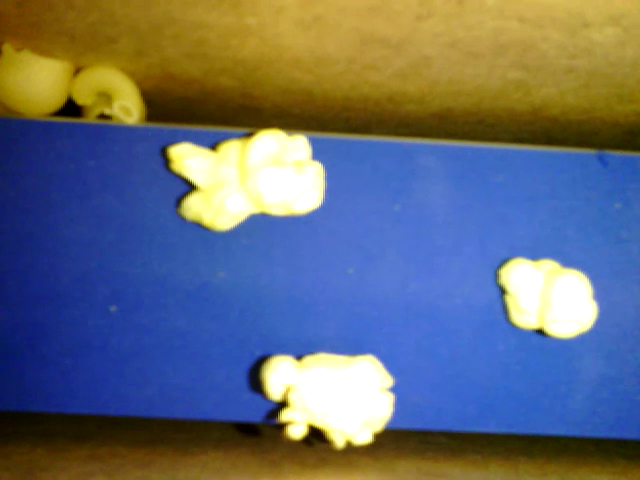elbow: (72, 63, 141, 121)
shell: (1, 42, 74, 116), (82, 94, 146, 125)
